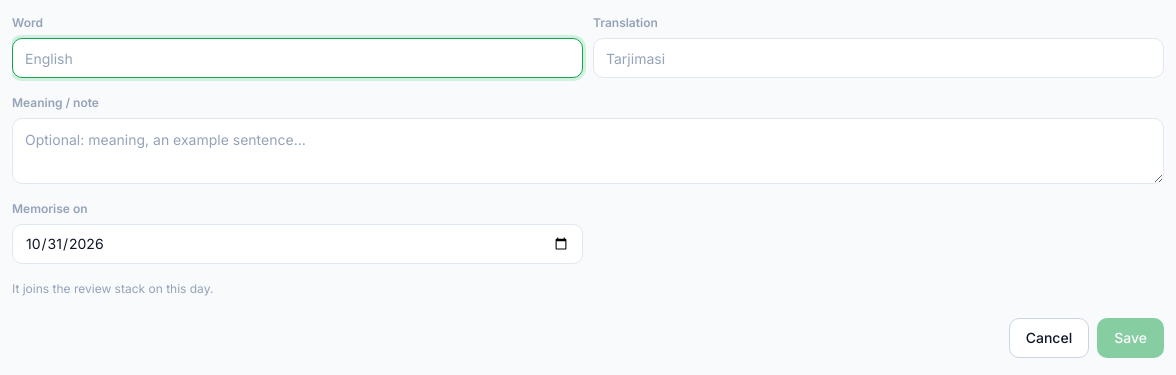
WordForm › a cleared date says why Save is off
Clear the date field labelled "Memorise on" at (298, 244), box [12, 224, 583, 264]
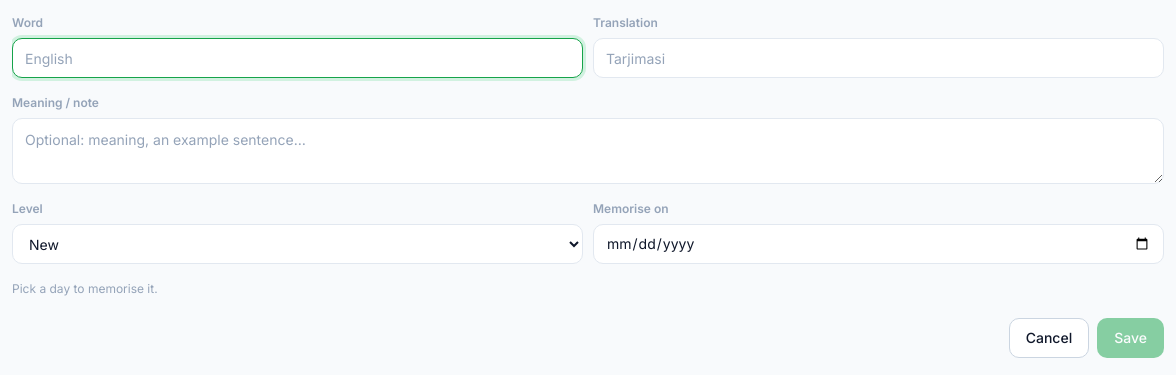
Check: the text "Pick a day to memorise it." is shown, box [12, 281, 158, 296]
